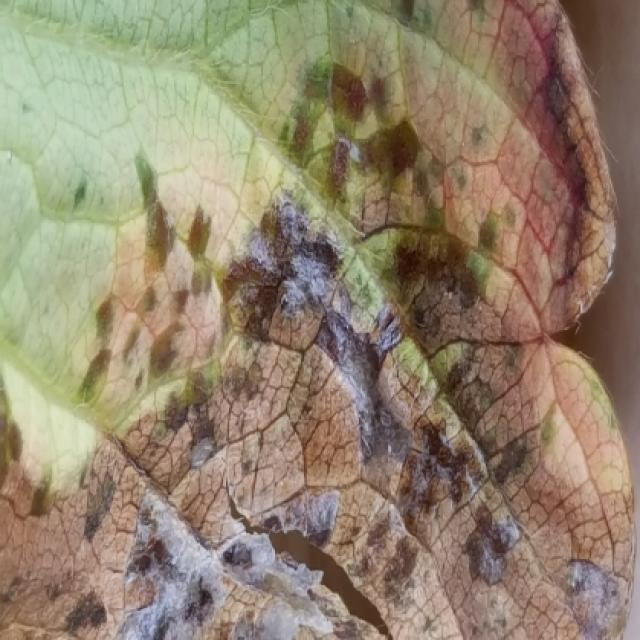Angular Leafspot: (0, 0, 637, 638)
